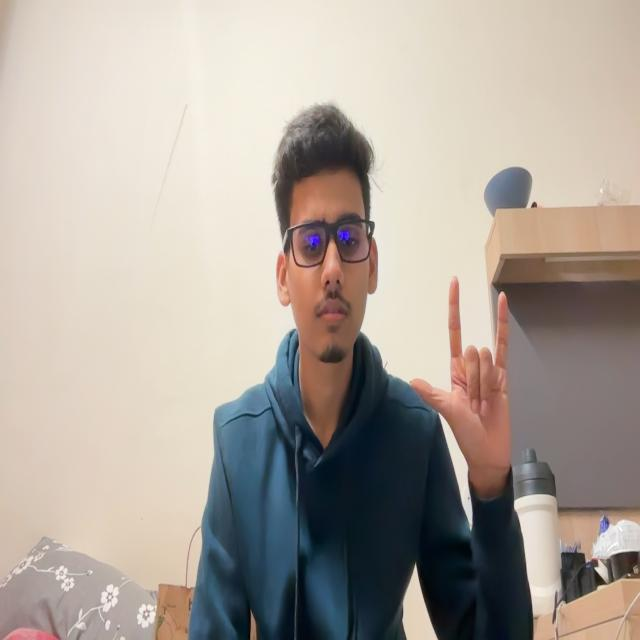Iloveyou: (402, 265, 518, 478)
